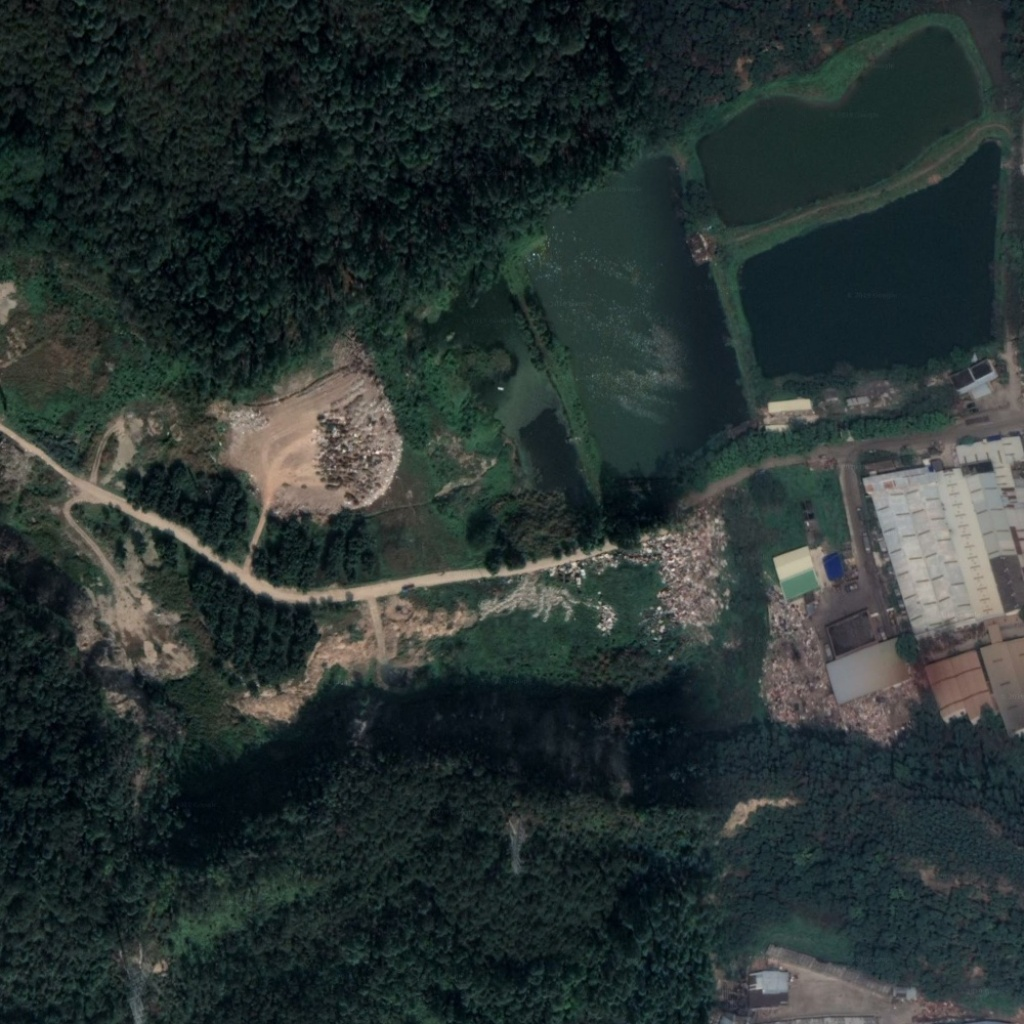agriculture forestry: (759, 591, 919, 743), (314, 397, 401, 508), (650, 513, 728, 628)
domestic garbage: (226, 401, 270, 435)
